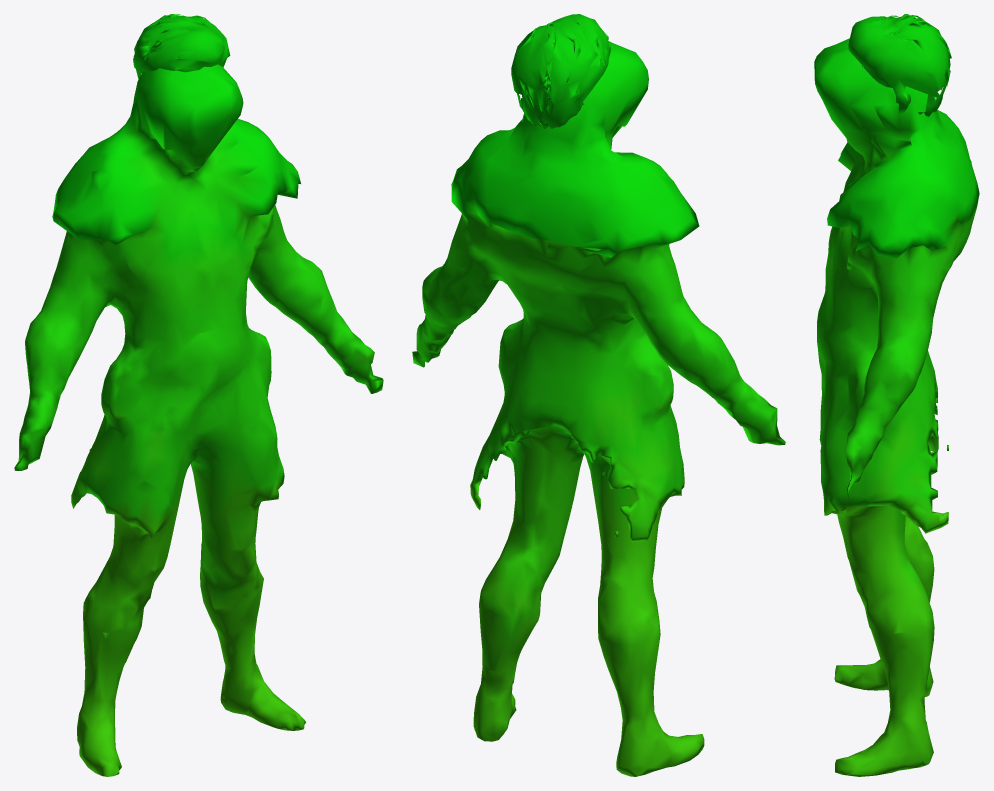
The model's file is compose_hunter.glb.
3 views of the same model, side by side, from view 1: azimuth 30°, elevation 25°; view 2: azimuth 150°, elevation 25°; view 3: azimuth 270°, elevation 25° (orthographic).
Visible parts, largest first — view 1: compose_hunter; view 2: compose_hunter; view 3: compose_hunter.
Part boxes in pixels (x1,y1,x2,y2): compose_hunter: (14,14,383,776); compose_hunter: (412,14,785,776); compose_hunter: (814,14,979,776).
Bounding box in the file's own units: 1.08 × 2.01 × 0.4205.
